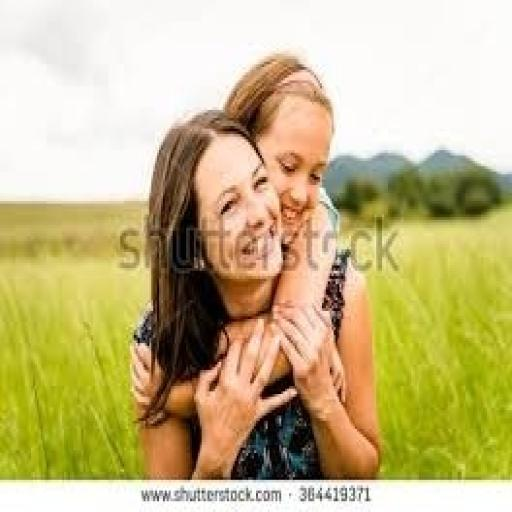hugging: (128, 51, 382, 480)
